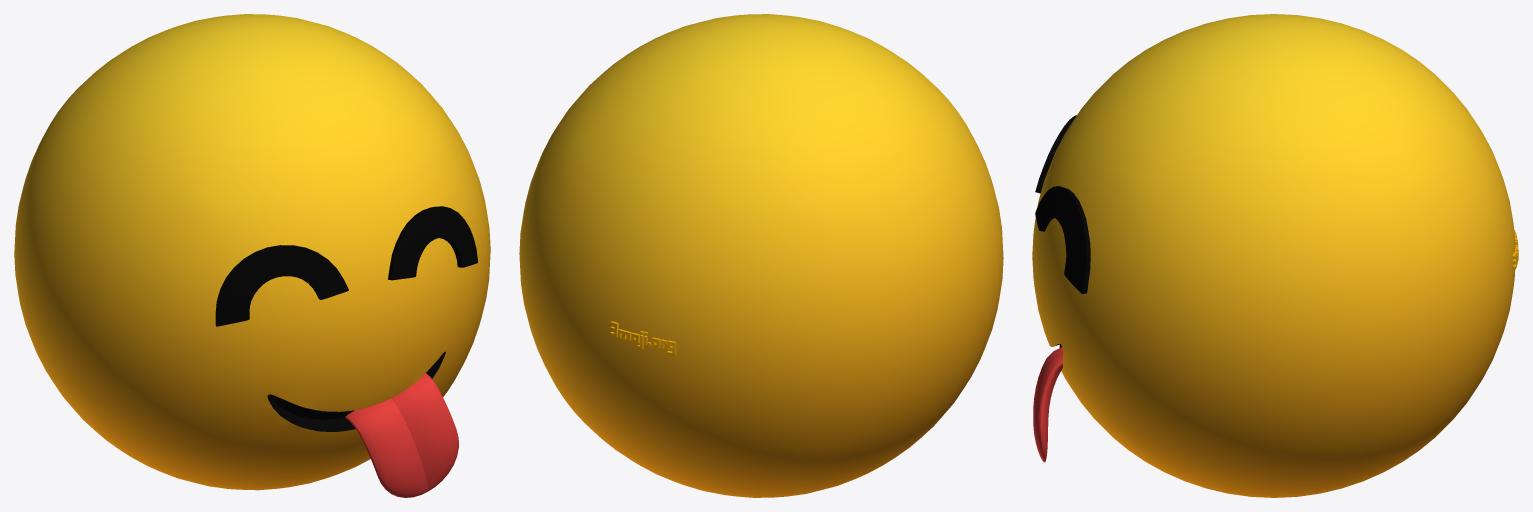
Rendered from face_savoring_food.glb.
3 renders of one model, left to right at view 1: azimuth 30°, elevation 25°; view 2: azimuth 150°, elevation 25°; view 3: azimuth 270°, elevation 25°, orthographic.
Parts seen in each view (by area): view 1: face_savoring_food; view 2: face_savoring_food; view 3: face_savoring_food.
Part boxes in pixels (x1=…): face_savoring_food: x1=14, y1=14, x2=490, y2=497; face_savoring_food: x1=519, y1=14, x2=1003, y2=497; face_savoring_food: x1=1032, y1=14, x2=1518, y2=497.
Size of the model in its own units: 1.69 by 1.69 by 1.7.
1 material, 1 textured.
